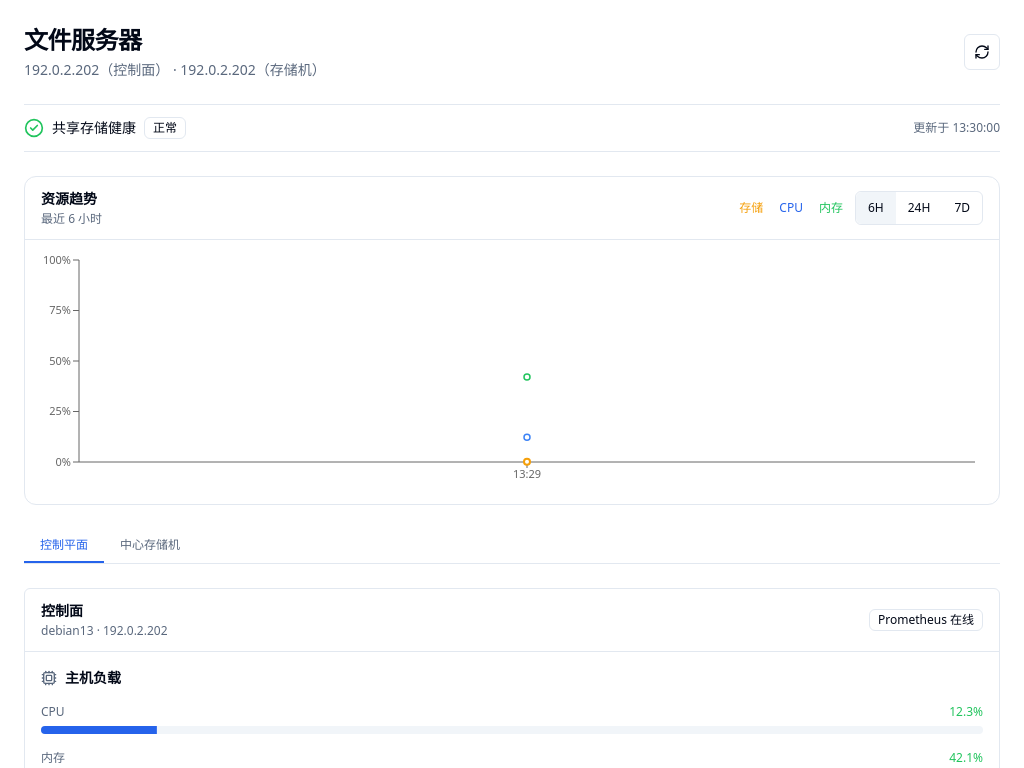
FileServerPage › switches history range and refetches with the selected hours
Check: the text "最近 6 小时" is shown, box [41,211,102,227]
Click the button "24H": click(919, 208) [896,192,942,224]
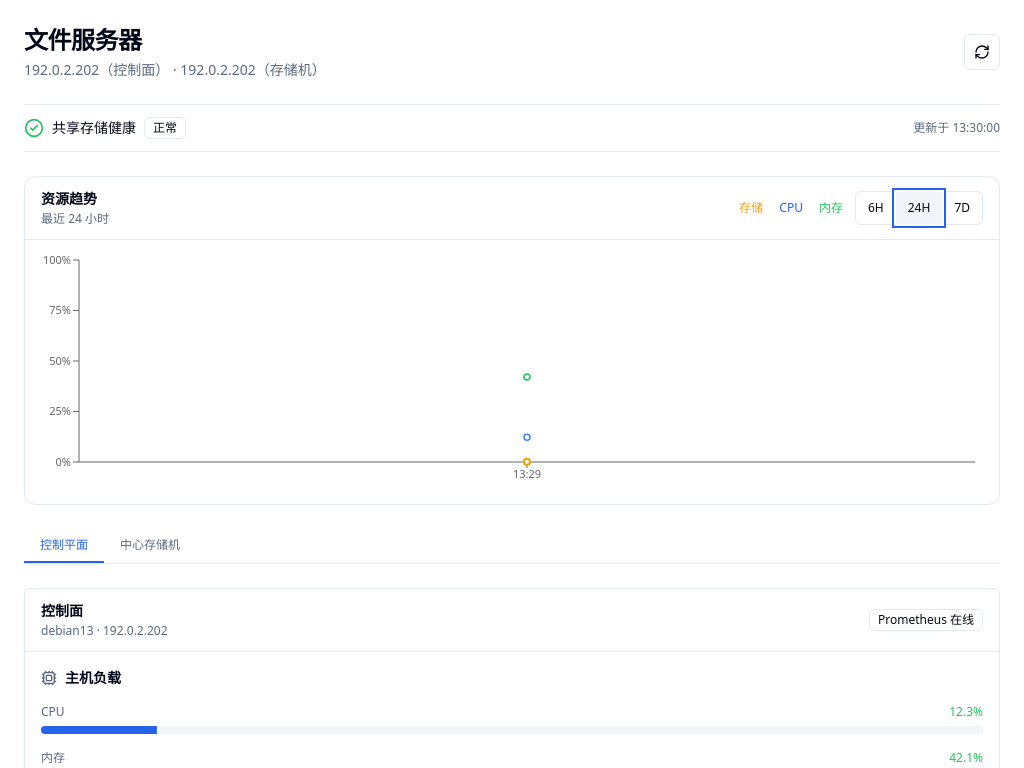
Click the button "7D": click(962, 208) [942,192,982,224]
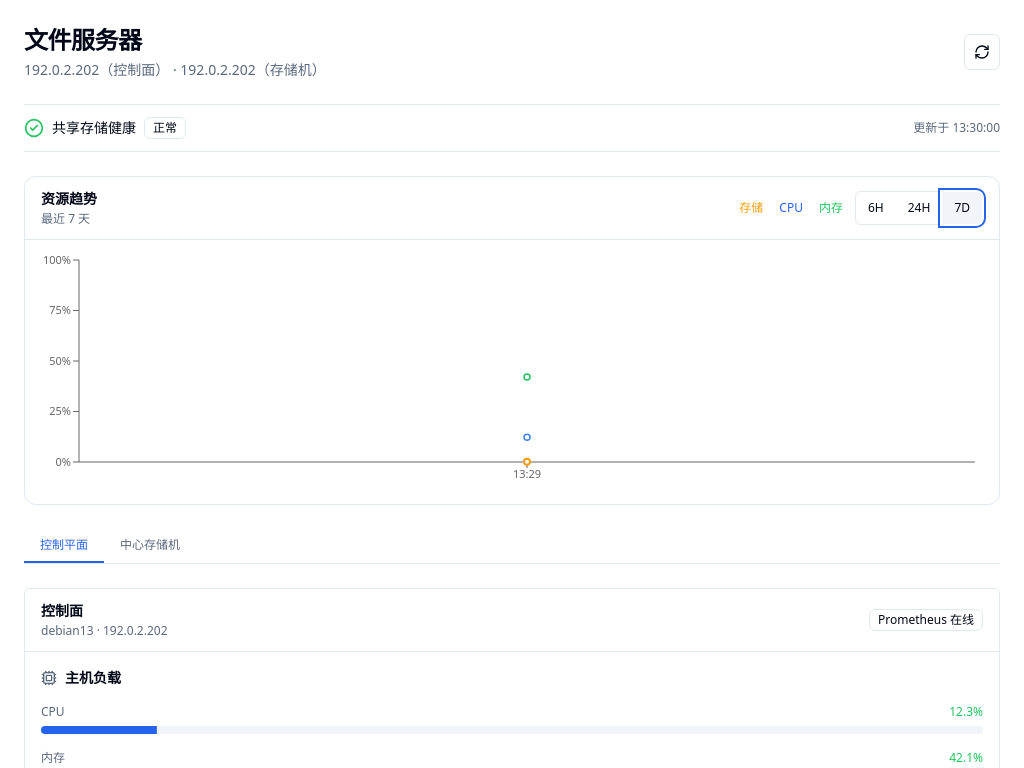
Check: the text "最近 7 天" is shown, box [41,211,97,227]
